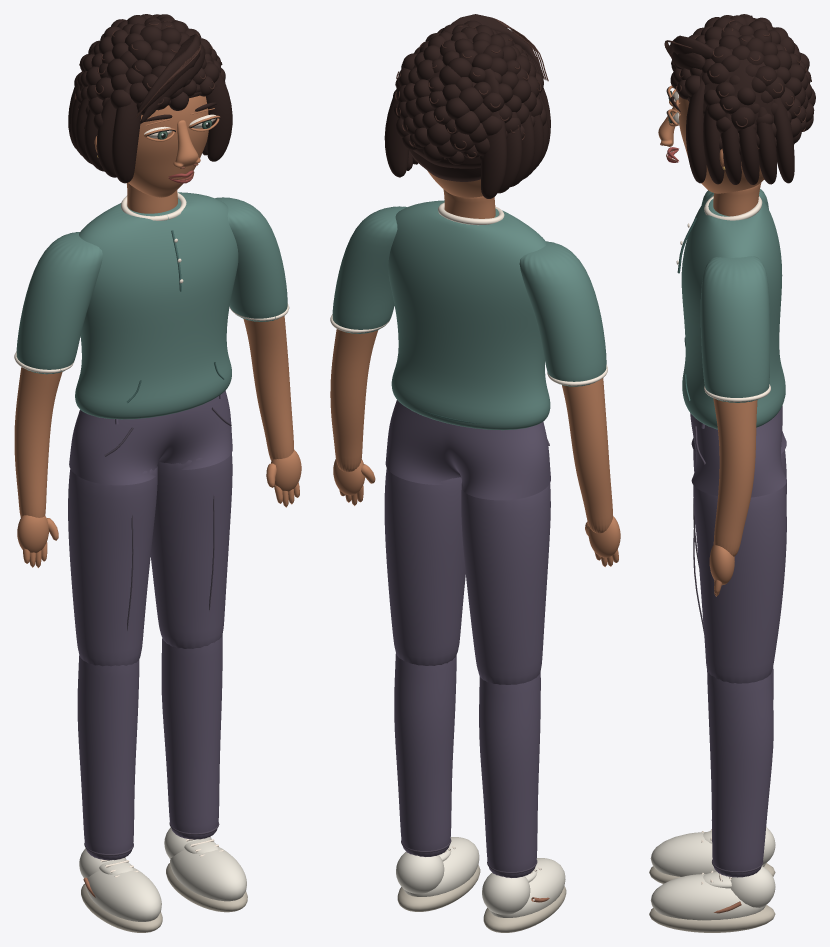
Rendered from character.glb.
3 views of the same model, side by side, from view 1: azimuth 30°, elevation 25°; view 2: azimuth 150°, elevation 25°; view 3: azimuth 270°, elevation 25° (orthographic).
Parts seen in each view (by area): view 1: Top_Blouse, Bottom_Thigh_-1, Bottom_Thigh_1, Bottom_Shin_-1, Bottom_Shin_1, Bottom_Hip, Top_Sleeve_L, Top_Sleeve_R, Skin_Forearm_L, Skin_Forearm_R, Skin_Face, Shoes_Upper_1 (+10 smaller); view 2: Top_Blouse, Bottom_Thigh_-1, Bottom_Thigh_1, Bottom_Shin_-1, Bottom_Hip, Bottom_Shin_1, Top_Sleeve_L, Top_Sleeve_R, Skin_Forearm_L, Skin_Forearm_R, Shoes_Upper_1, Shoes_Upper_-1 (+13 smaller); view 3: Bottom_Thigh_1, Bottom_Shin_1, Top_Blouse, Top_Sleeve_R, Skin_Forearm_R, Bottom_Hip, Shoes_Upper_1, Shoes_Upper_-1, Shoes_Sole_1, Hair_Bob_Lock.006, Hair_Bob_Lock.011, Shoes_Heel_1 (+14 smaller).
Part boxes in pixels (x1,y1,x2,y2): Top_Blouse: [75, 192, 238, 419]; Bottom_Thigh_-1: [68, 466, 157, 666]; Bottom_Thigh_1: [150, 453, 232, 648]; Bottom_Shin_-1: [77, 655, 139, 860]; Bottom_Shin_1: [161, 635, 222, 839]; Bottom_Hip: [69, 391, 232, 485]; Top_Sleeve_L: [16, 232, 102, 374]; Top_Sleeve_R: [215, 197, 287, 321]; Skin_Forearm_L: [14, 367, 62, 517]; Skin_Forearm_R: [243, 316, 294, 460]; Skin_Face: [128, 95, 208, 197]; Shoes_Upper_1: [170, 847, 246, 901]; Top_Blouse: [388, 200, 550, 430]; Bottom_Thigh_-1: [461, 482, 550, 684]; Bottom_Thigh_1: [384, 468, 465, 665]; Bottom_Shin_-1: [479, 672, 540, 877]; Bottom_Hip: [385, 400, 550, 500]; Bottom_Shin_1: [394, 654, 456, 856]; Top_Sleeve_L: [519, 241, 606, 386]; Top_Sleeve_R: [332, 206, 406, 333]; Skin_Forearm_L: [562, 378, 612, 533]; Skin_Forearm_R: [330, 329, 378, 472]; Shoes_Upper_1: [403, 837, 479, 896]; Shoes_Upper_-1: [489, 858, 565, 917]; Bottom_Thigh_1: [693, 485, 786, 683]; Bottom_Shin_1: [707, 670, 773, 877]; Top_Blouse: [681, 192, 785, 429]; Top_Sleeve_R: [700, 256, 769, 402]; Skin_Forearm_R: [713, 398, 757, 556]; Bottom_Hip: [690, 406, 786, 497]; Shoes_Upper_1: [650, 874, 765, 920]; Shoes_Upper_-1: [650, 832, 765, 876]; Shoes_Sole_1: [649, 905, 775, 932]; Hair_Bob_Lock.006: [686, 75, 706, 183]; Hair_Bob_Lock.011: [773, 97, 794, 183]; Shoes_Heel_1: [730, 866, 775, 907].
Bounding box in the file's own units: 0.596 × 1.78 × 0.3034.
